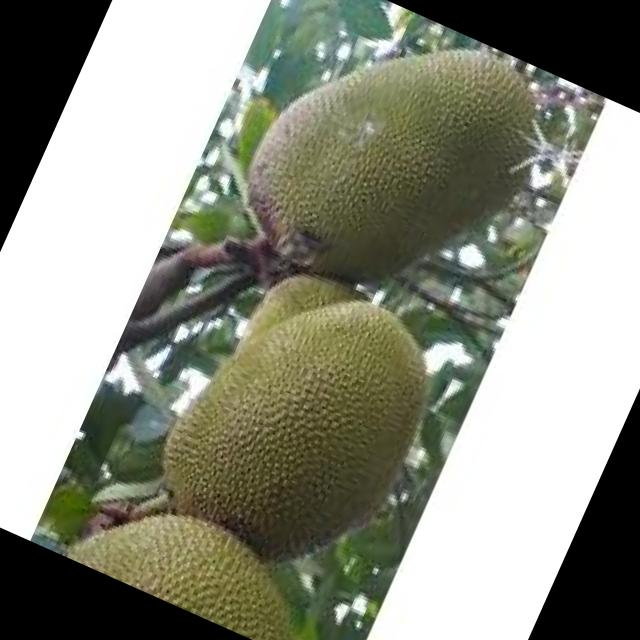Fruit: (127, 230, 484, 610), (212, 0, 585, 335), (40, 456, 348, 640)
